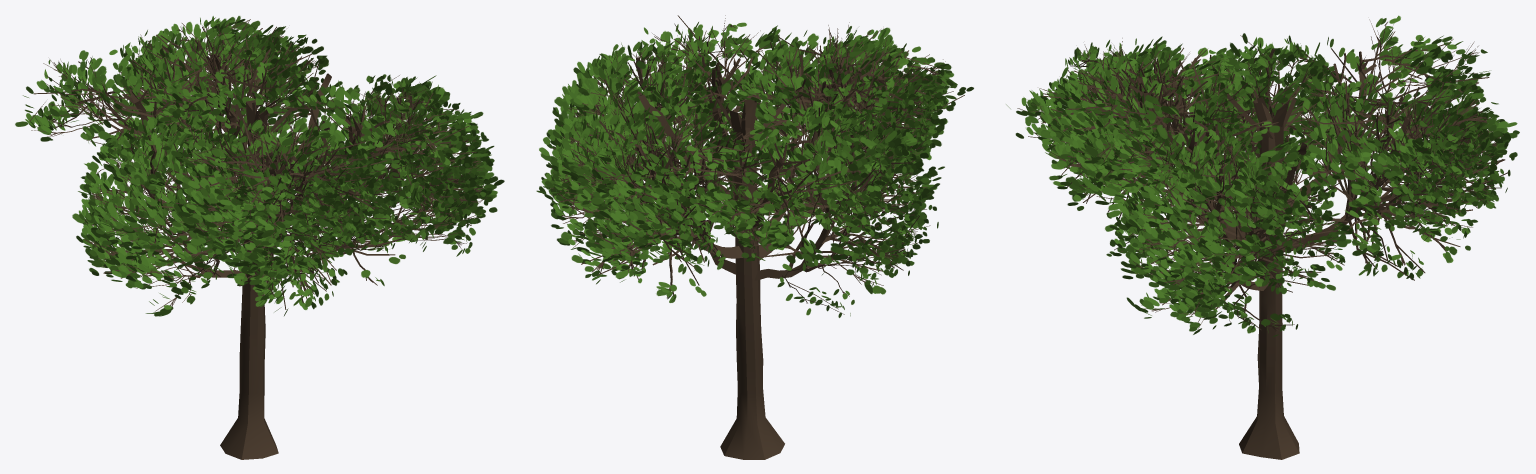
3 renders of one model, left to right at view 1: azimuth 30°, elevation 25°; view 2: azimuth 150°, elevation 25°; view 3: azimuth 270°, elevation 25°, orthographic. The views are drawn at different scales.
Visible parts, largest first — view 1: oak 01.001_trunk_Mat.001_0.153; view 2: oak 01.001_trunk_Mat.001_0.153; view 3: oak 01.001_trunk_Mat.001_0.153.
Part boxes in pixels (x1,y1,x2,y2): oak 01.001_trunk_Mat.001_0.153: [15, 16, 504, 459]; oak 01.001_trunk_Mat.001_0.153: [536, 15, 973, 459]; oak 01.001_trunk_Mat.001_0.153: [1006, 15, 1519, 459].
Bounding box in the file's own units: 5.85 × 5 × 6.32.
Materials: 2 (1 with a texture image).
